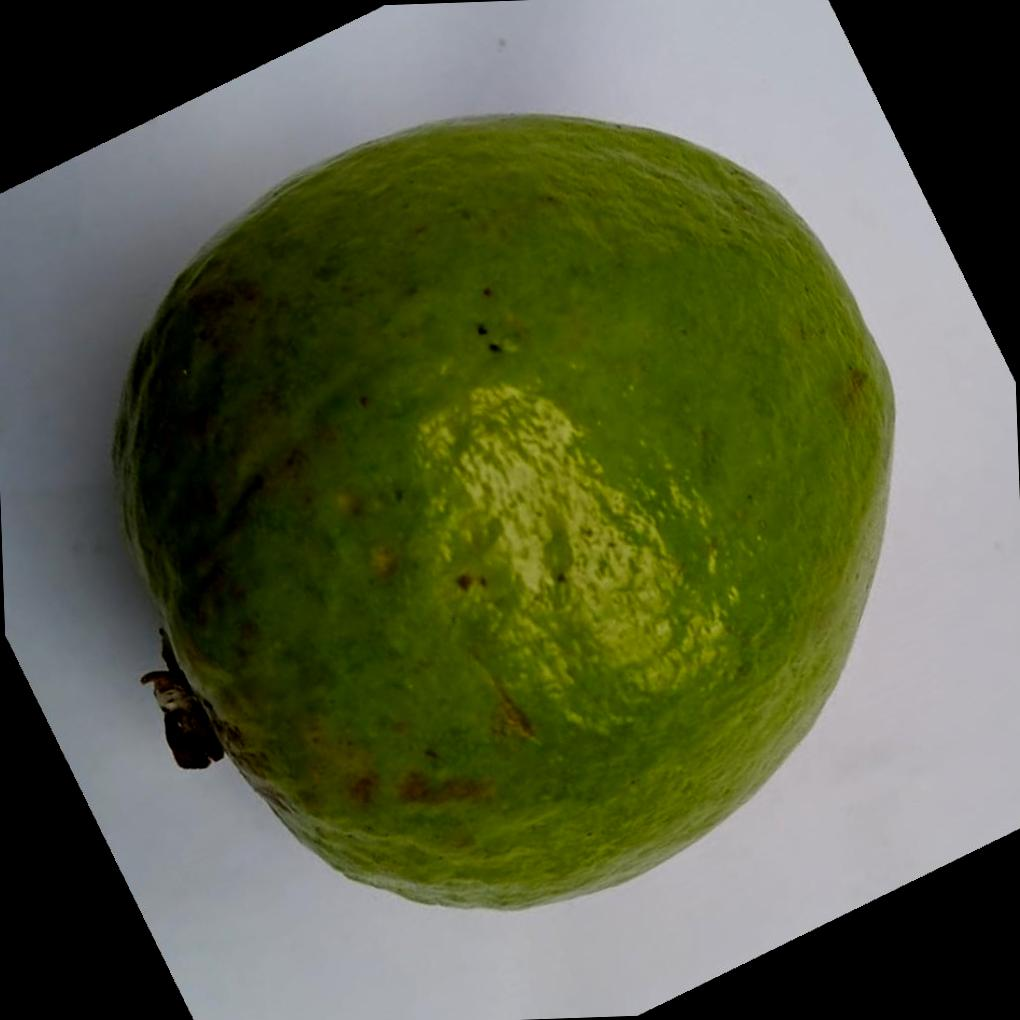FreshGuava: (111, 108, 897, 909)
